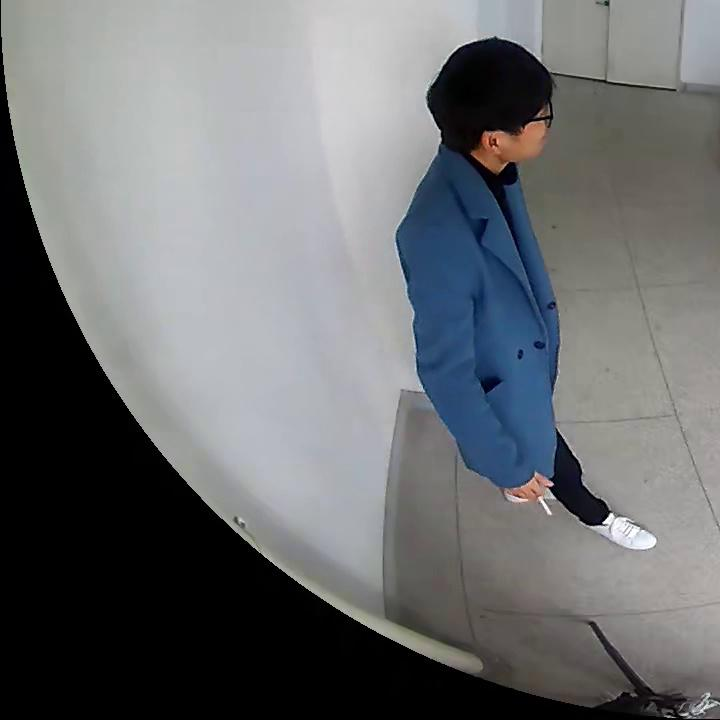handsmoke: (531, 473, 556, 518)
mouthwithoutsmoke: (425, 38, 553, 165)
